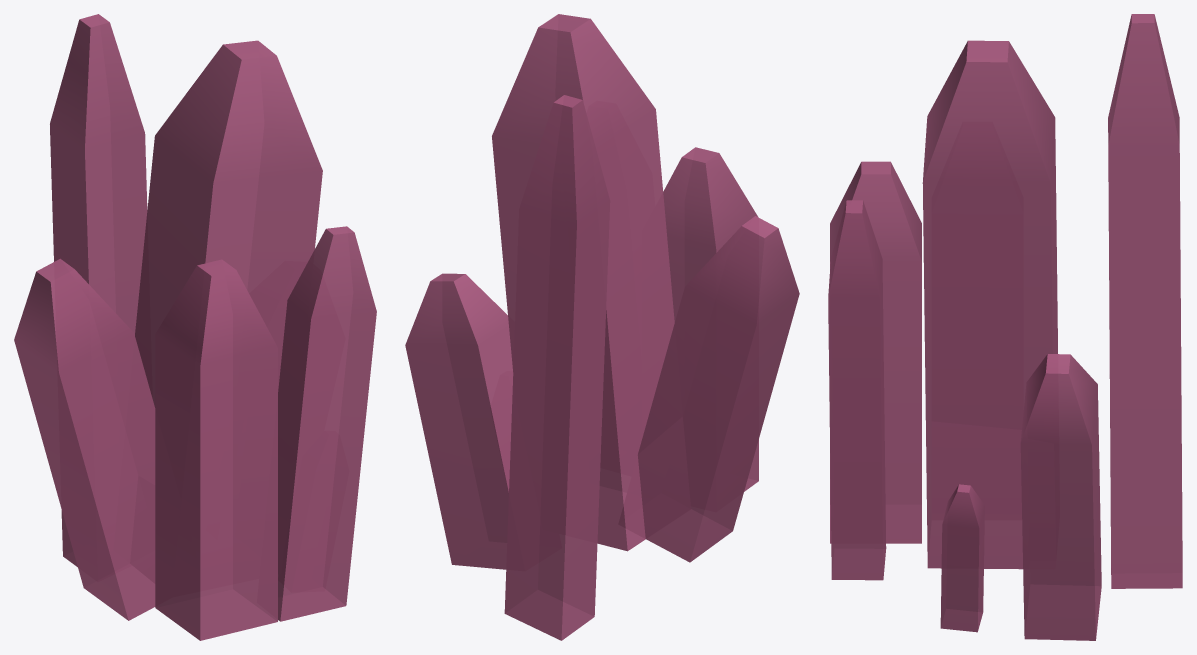
File: CrystalBatch.fbx
3 renders of one model, left to right at view 1: azimuth 30°, elevation 25°; view 2: azimuth 150°, elevation 25°; view 3: azimuth 270°, elevation 25°, orthographic. The views are drawn at different scales.
Visible parts, largest first — view 1: Crystals:pPlane35, Crystals:Crystal_12, Crystals:pPlane34, Crystals:pPlane37, Crystals:pPlane38; view 2: Crystals:pPlane38, Crystals:Crystal_12, Crystals:pPlane34, Crystals:pPlane40, Crystals:pPlane35; view 3: Crystals:Crystal_12, Crystals:pPlane38, Crystals:pPlane40, Crystals:pPlane37, Crystals:pPlane35, Crystals:pPlane41.
Part boxes in pixels (<box>): Crystals:pPlane35: <box>155,259,277,640</box>; Crystals:Crystal_12: <box>135,40,322,407</box>; Crystals:pPlane34: <box>14,258,155,620</box>; Crystals:pPlane37: <box>278,226,376,621</box>; Crystals:pPlane38: <box>50,14,147,567</box>; Crystals:pPlane38: <box>504,95,610,640</box>; Crystals:Crystal_12: <box>492,14,690,551</box>; Crystals:pPlane34: <box>619,216,799,562</box>; Crystals:pPlane40: <box>405,273,513,569</box>; Crystals:pPlane35: <box>663,147,758,491</box>; Crystals:Crystal_12: <box>922,40,1057,569</box>; Crystals:pPlane38: <box>1108,14,1182,588</box>; Crystals:pPlane40: <box>1020,354,1101,640</box>; Crystals:pPlane37: <box>828,200,886,580</box>; Crystals:pPlane35: <box>830,161,921,543</box>; Crystals:pPlane41: <box>940,484,984,632</box>.
Bounding box in the file's own units: 4.29 × 6.83 × 3.85.
